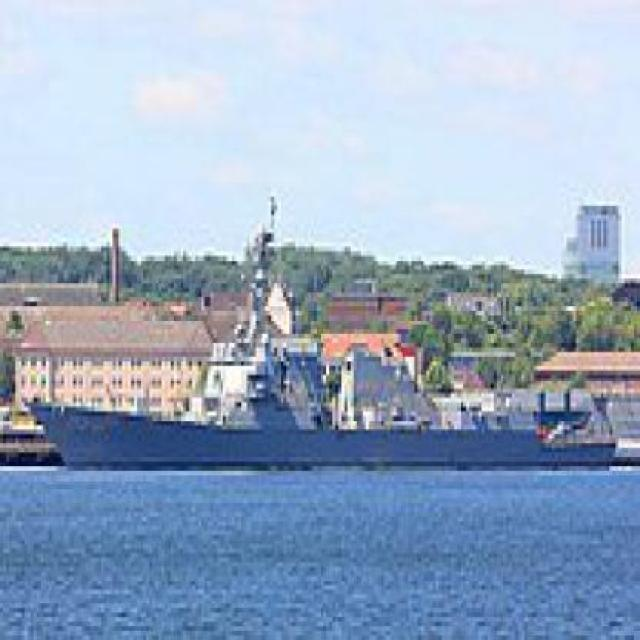warship2: (31, 252, 617, 486)
